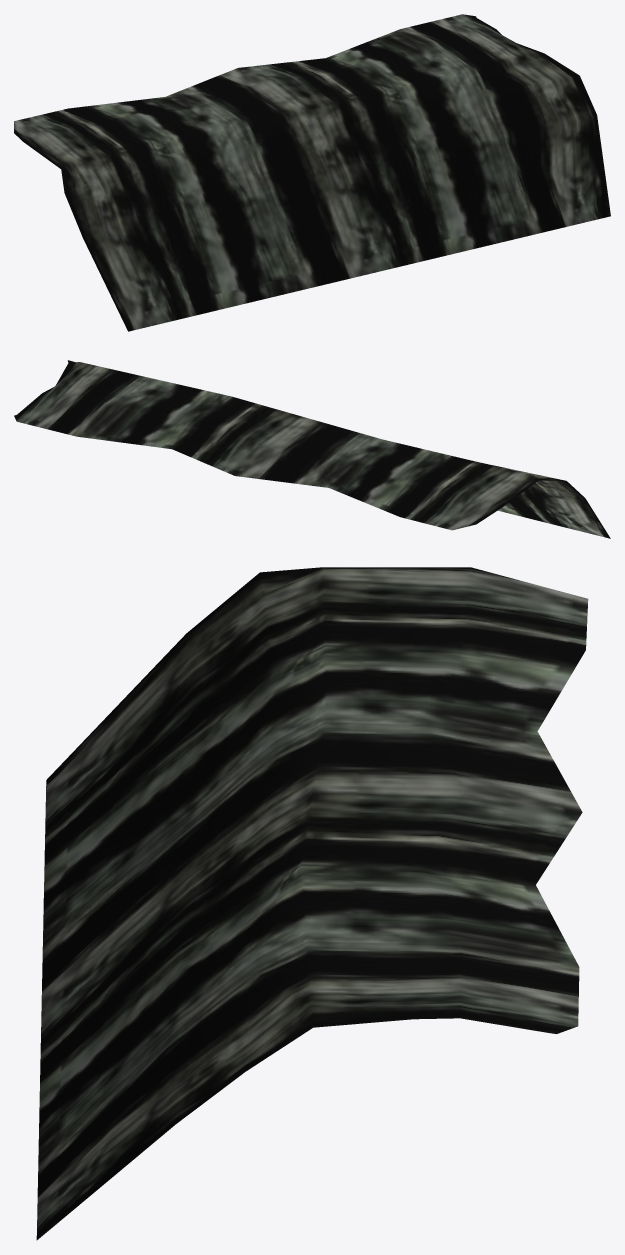
3 renders of one model, top to bottom at view 1: azimuth 30°, elevation 25°; view 2: azimuth 150°, elevation 25°; view 3: azimuth 270°, elevation 25°, orthographic. The views are drawn at different scales.
Parts seen in each view (by area): view 1: sg06; view 2: sg06; view 3: sg06.
Part boxes in pixels (x1,y1,x2,y2): sg06: (14,14,610,331); sg06: (14,360,610,538); sg06: (36,567,588,1240).
Size of the model in its own units: 895 by 191 by 425.
